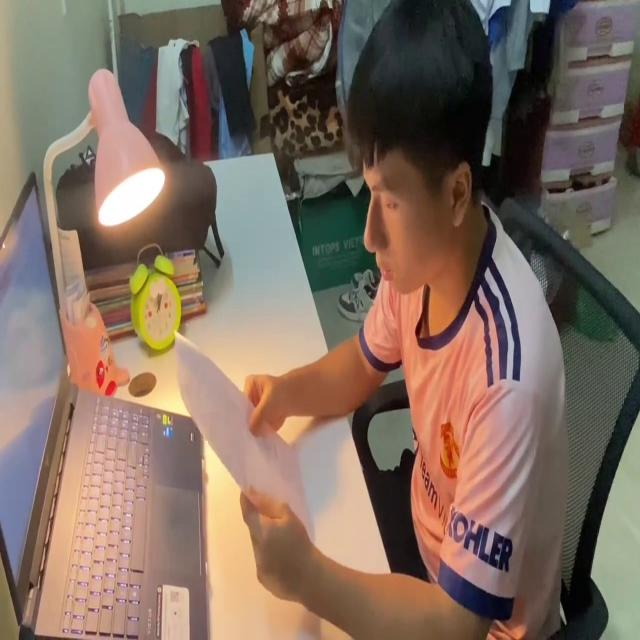book: (169, 331, 317, 547)
laptop: (0, 166, 206, 640)
student: (242, 6, 566, 640)
